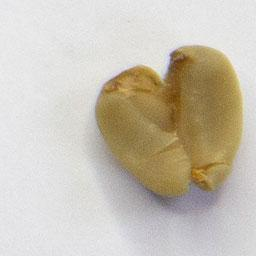defect: (93, 42, 247, 200)
